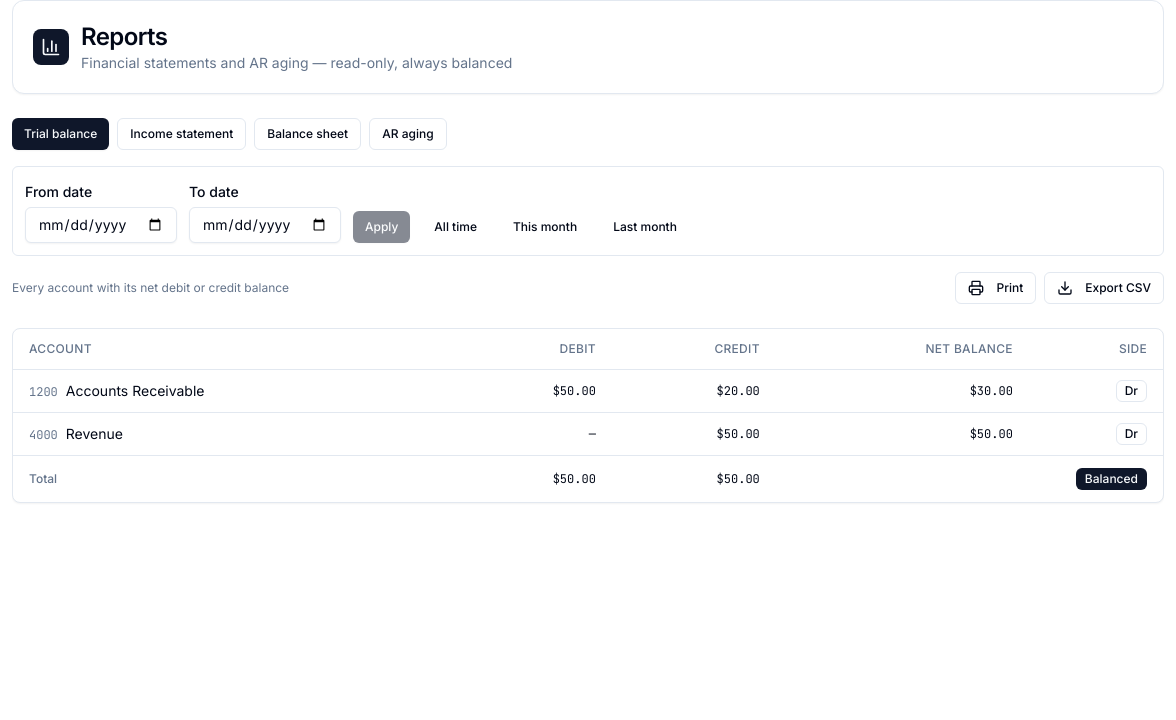
Test: ReportsView — income statement (ACC-1) › renders revenue, expenses, and net income
Click the tab "Income statement". click: (182, 134)
box: [117, 118, 246, 150]
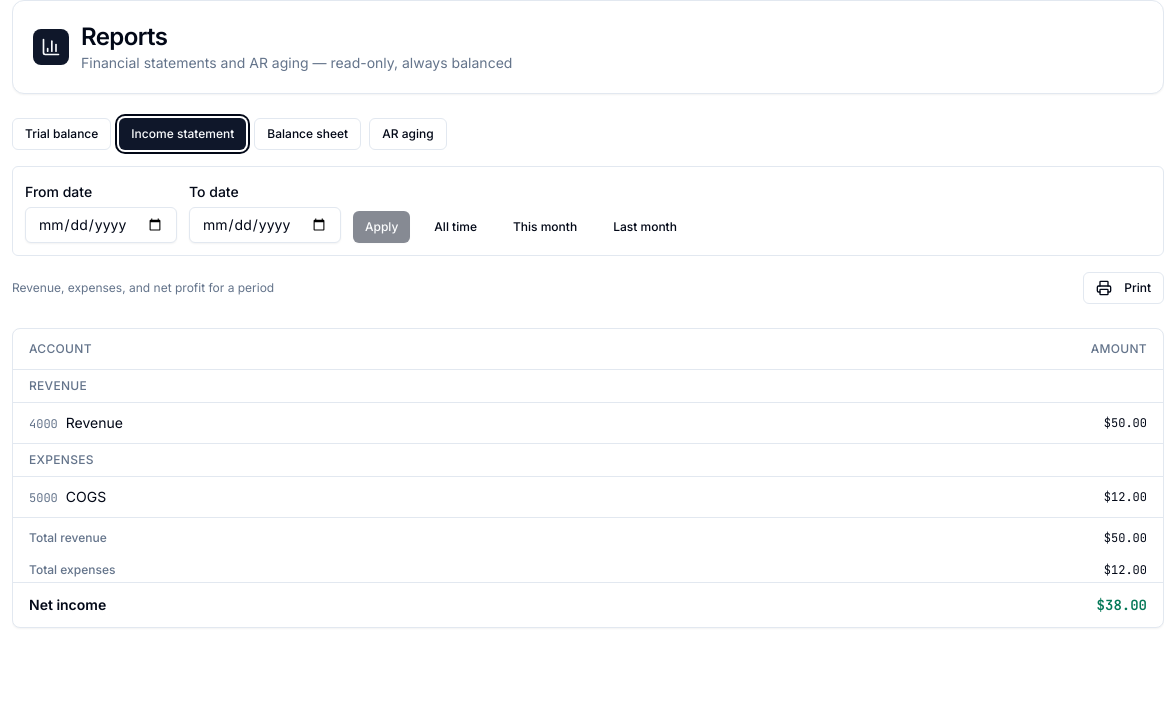
expect the text "Revenue" is shown: met, box [13, 370, 1163, 402]
expect the text "Expenses" is shown: met, box [13, 444, 1163, 476]
expect the text "COGS" is shown: met, box [66, 487, 106, 507]
